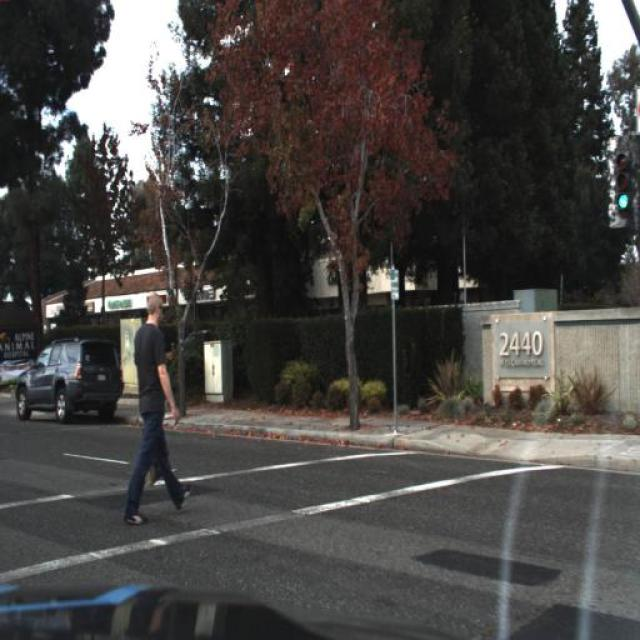car: (11, 330, 128, 430)
trafficLight: (120, 282, 198, 542)
